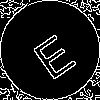E: (25, 25, 79, 82)
